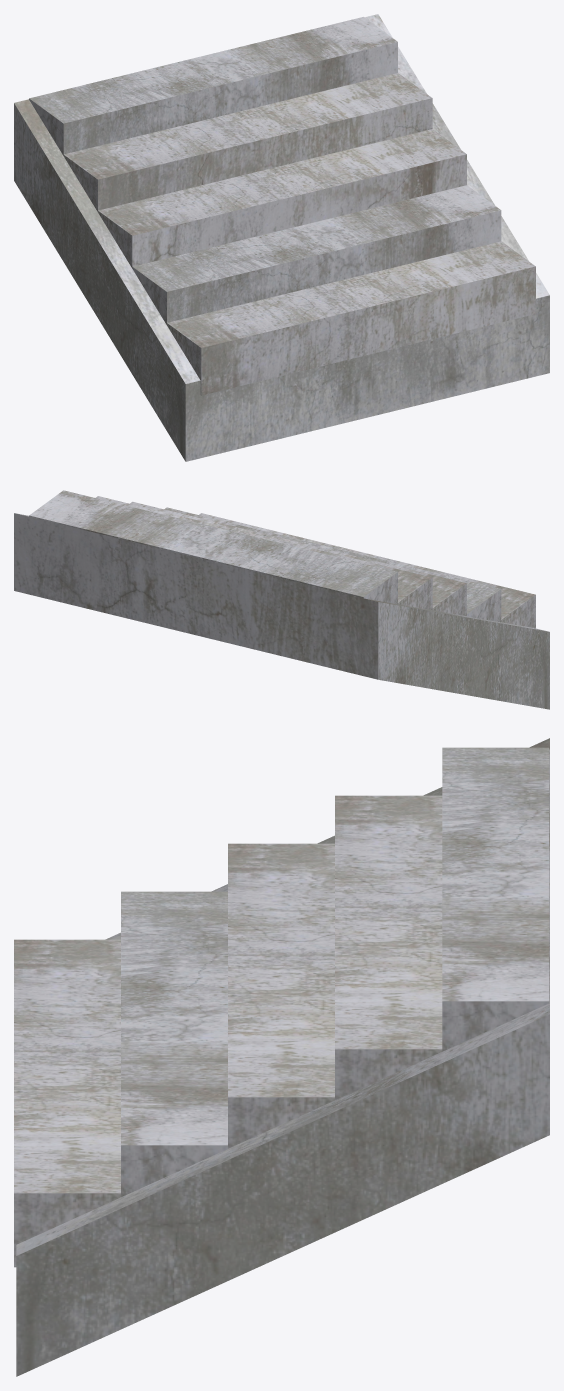
File: JpHouse_23a_site5a.fbx
3 renders of one model, top to bottom at view 1: azimuth 30°, elevation 25°; view 2: azimuth 150°, elevation 25°; view 3: azimuth 270°, elevation 25°, orthographic. The views are drawn at different scales.
Visible parts, largest first — view 1: JpHouse_23a_site5a; view 2: JpHouse_23a_site5a; view 3: JpHouse_23a_site5a.
Part boxes in pixels (x1,y1,x2,y2): JpHouse_23a_site5a: (14, 14, 549, 461); JpHouse_23a_site5a: (14, 490, 549, 709); JpHouse_23a_site5a: (14, 738, 549, 1376).
Bounding box in the file's own units: 2.45 × 1.51 × 2.01.
